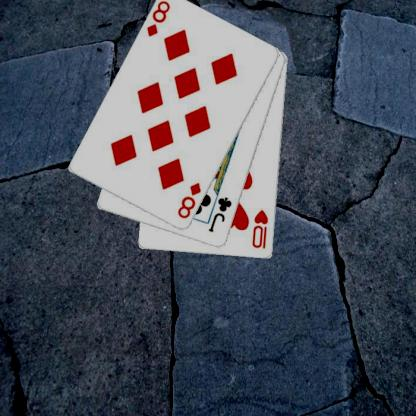10H: (249, 208, 270, 250)
8D: (174, 180, 202, 221), (144, 0, 172, 39)
JC: (206, 195, 234, 234)
